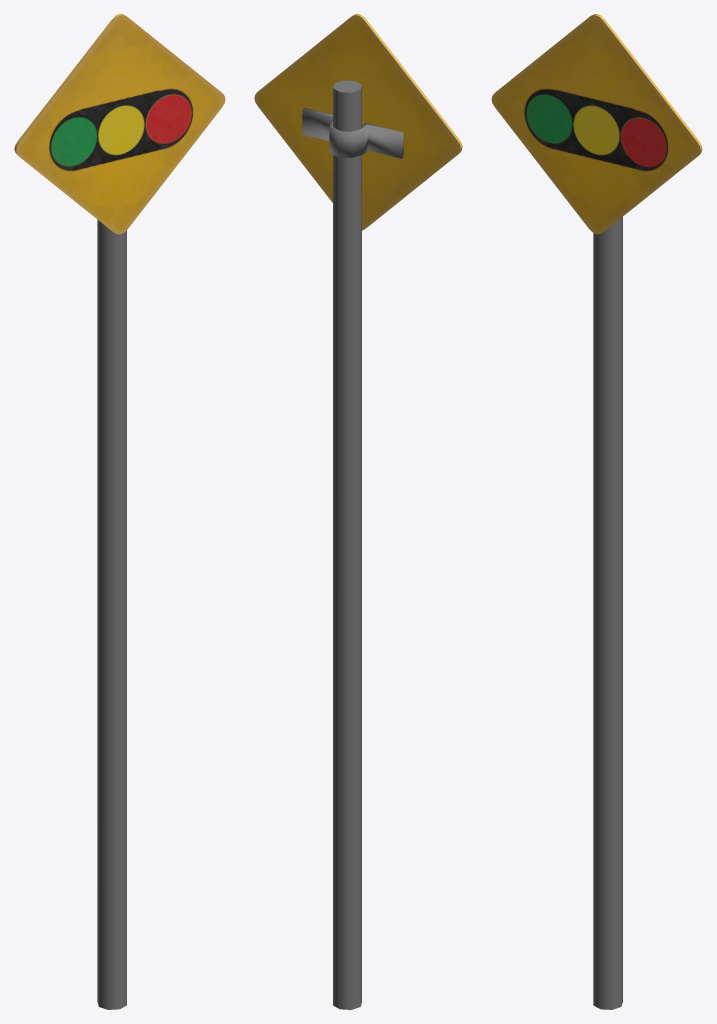
File: SM_sign_traffic_010.fbx
3 renders of one model, left to right at view 1: azimuth 30°, elevation 25°; view 2: azimuth 150°, elevation 25°; view 3: azimuth 330°, elevation 25°, orthographic.
Parts seen in each view (by area): view 1: Object32696; view 2: Object32696; view 3: Object32696.
Boxes of the visible parts, box(x1,y1,x2,y2) form: Object32696: box(14, 14, 225, 1009); Object32696: box(254, 14, 462, 1009); Object32696: box(491, 14, 702, 1009).
Bounding box in the file's own units: 24.87 × 113 × 4.11.
